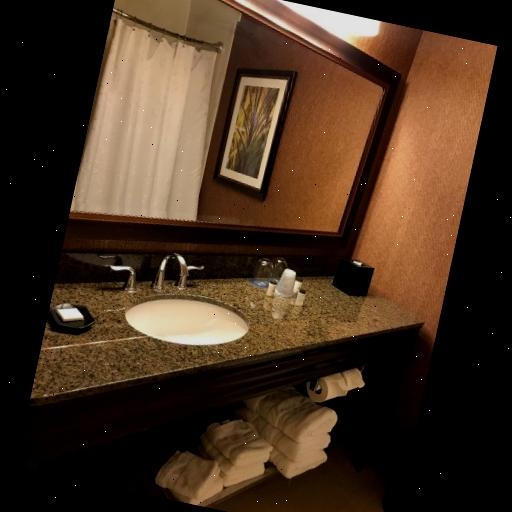clean_sink: (18, 216, 426, 454)
folded_towel: (148, 381, 343, 502), (190, 408, 276, 490)
